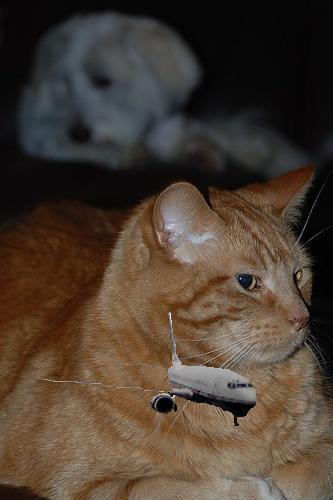tampered: (44, 313, 256, 426)
